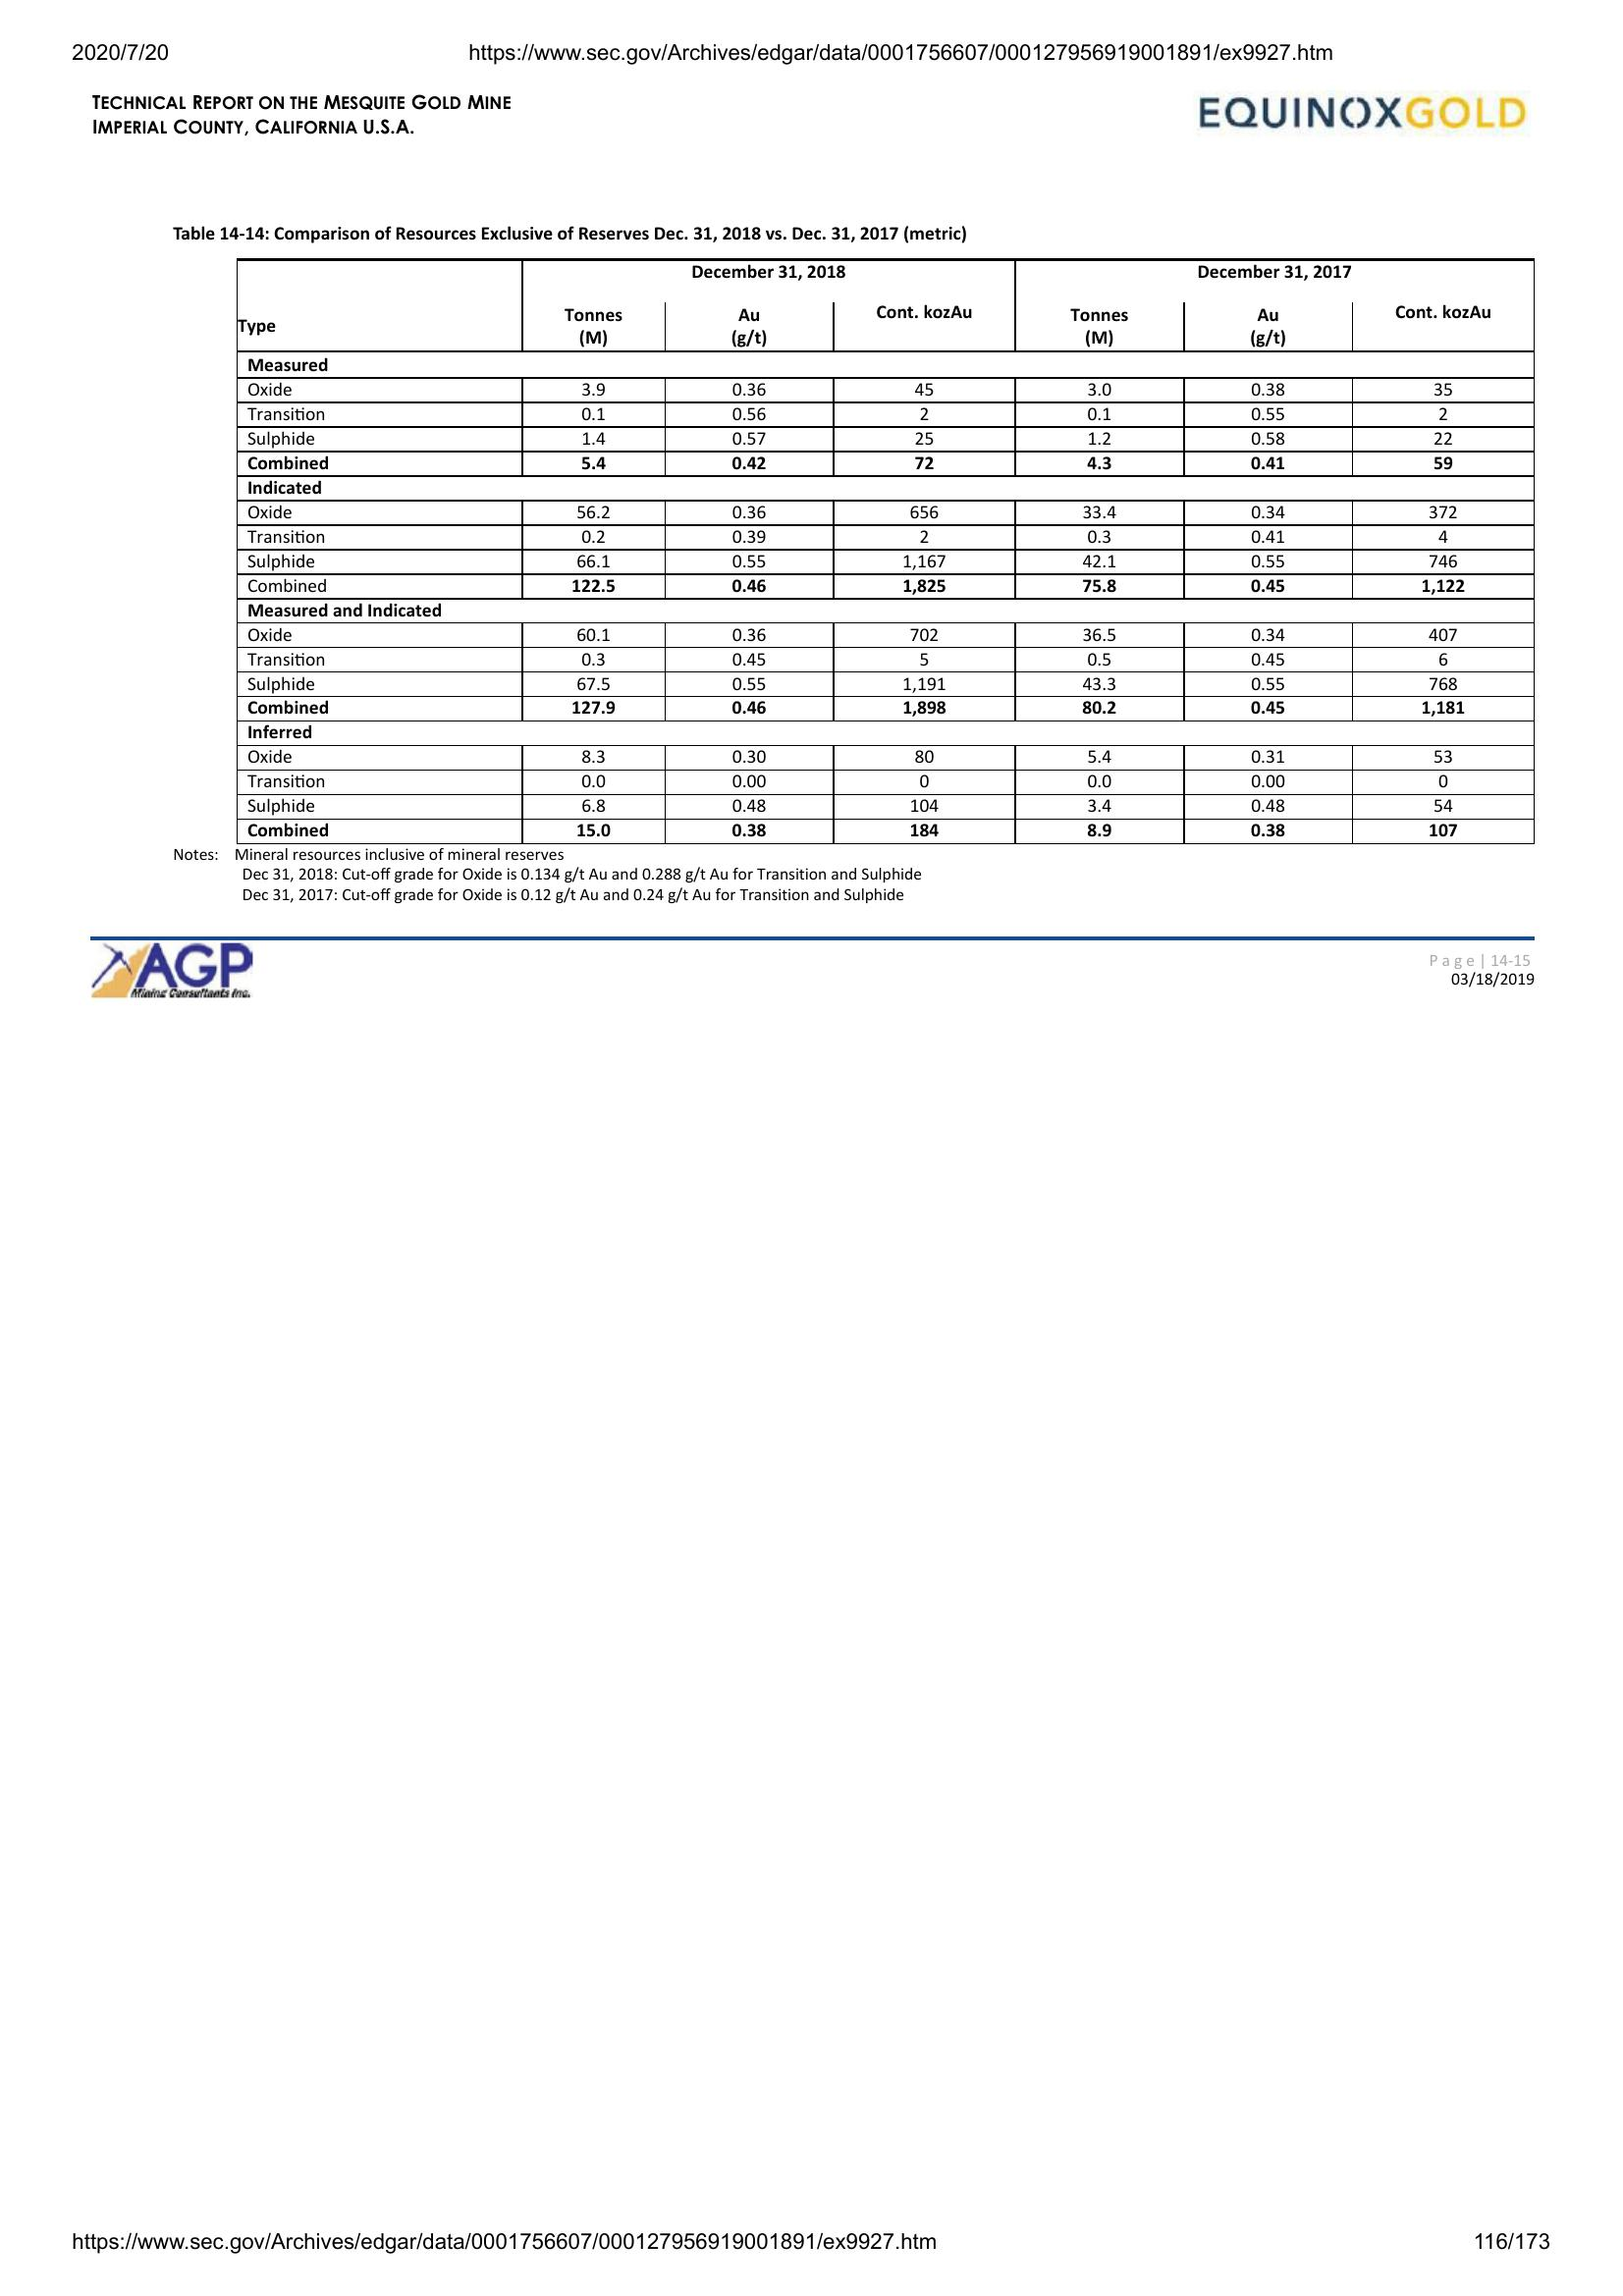table: (232, 251, 1544, 851)
